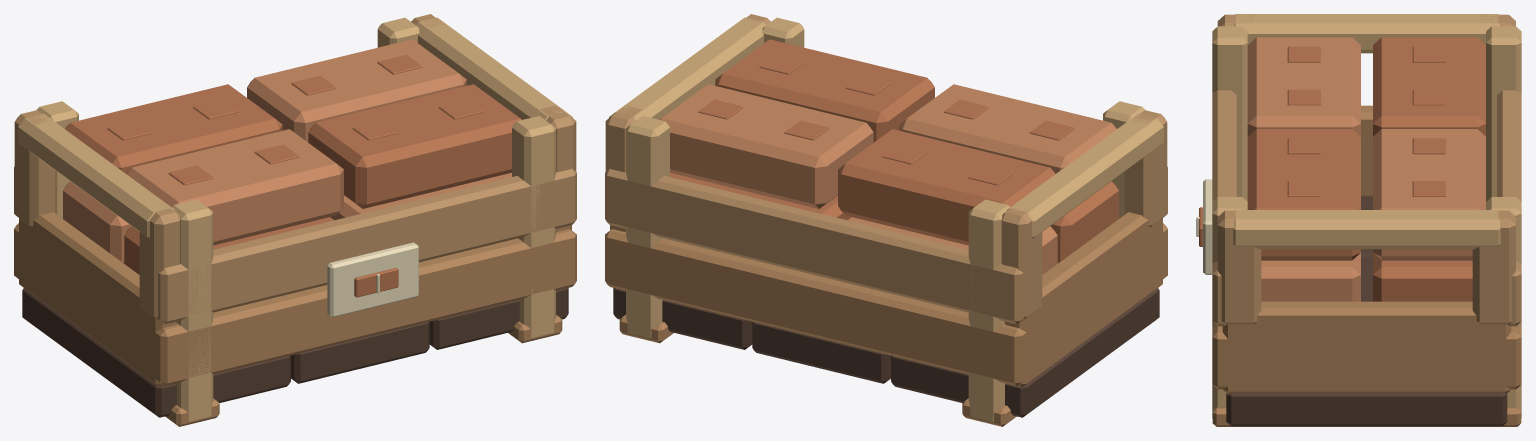
Rendered from goods_bricks_crate.glb.
3 views of the same model, side by side, from view 1: azimuth 30°, elevation 25°; view 2: azimuth 150°, elevation 25°; view 3: azimuth 270°, elevation 25° (orthographic).
Parts seen in each view (by area): view 1: goods_bricks_crate; view 2: goods_bricks_crate; view 3: goods_bricks_crate.
Part boxes in pixels (bbox=[...]): goods_bricks_crate: bbox=[14, 14, 576, 426]; goods_bricks_crate: bbox=[605, 14, 1167, 426]; goods_bricks_crate: bbox=[1196, 14, 1521, 426].
Size of the model in its own units: 0.634 by 0.301 by 0.411.
